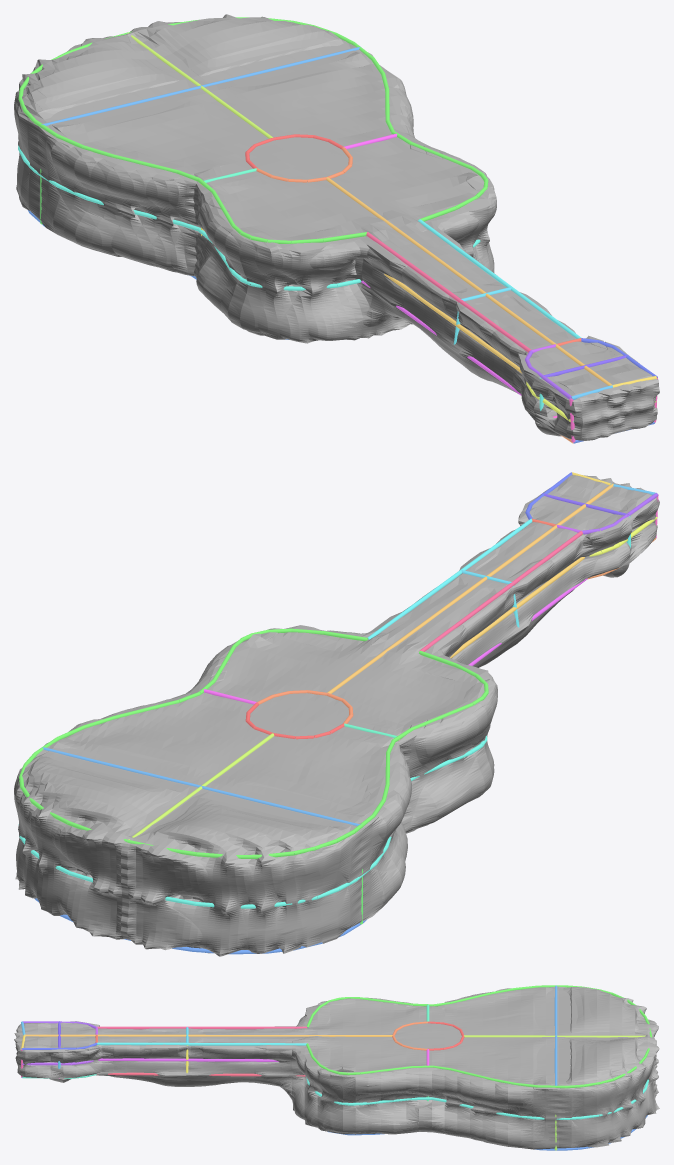
The model's file is t2f_guitar.gltf.
3 views of the same model, one above another, from view 1: azimuth 30°, elevation 25°; view 2: azimuth 150°, elevation 25°; view 3: azimuth 270°, elevation 25° (orthographic). The views are drawn at different scales.
Bounding box in the file's own units: 0.3684 × 0.1276 × 0.9551.
